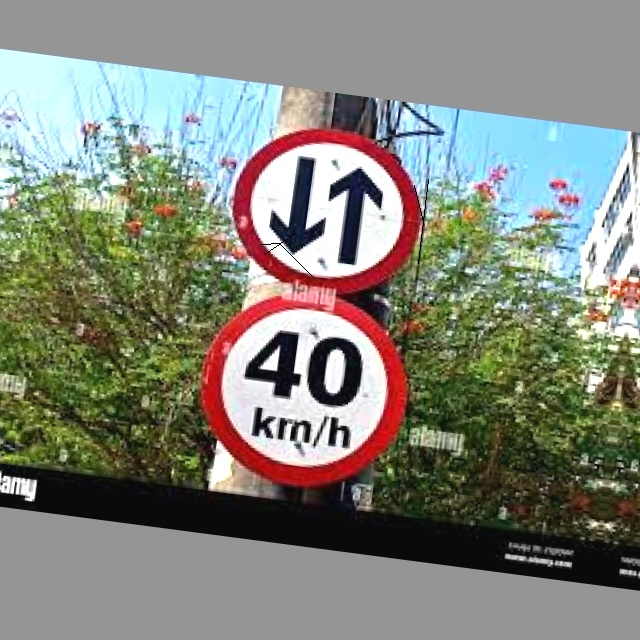Mandatory_Two_Way_Traffic: (227, 122, 428, 298)
